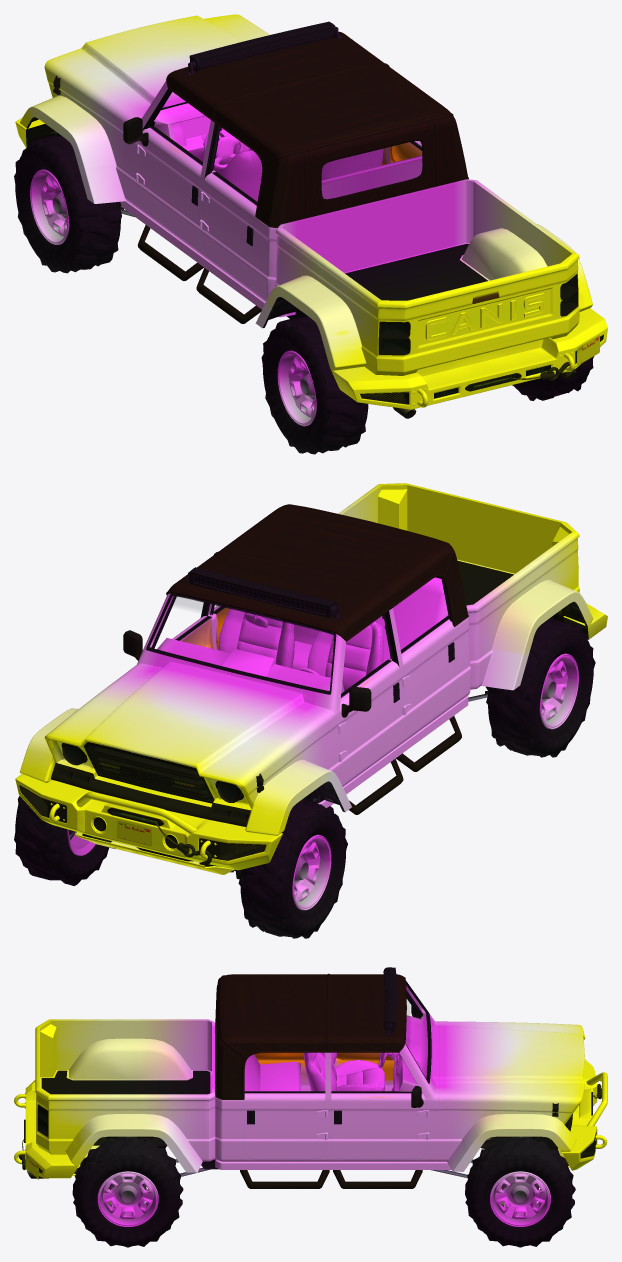
Rendered from kamacho.glb.
3 views of the same model, one above another, from view 1: azimuth 30°, elevation 25°; view 2: azimuth 150°, elevation 25°; view 3: azimuth 270°, elevation 25° (orthographic). The views are drawn at different scales.
Parts seen in each view (by area): view 1: bodyshell, extra_1, bonnet, chassis, bumper_r, wheel_lf, boot, wheel_lr, door_dside_f, door_dside_r, misc_s, wheel_rr (+2 smaller); view 2: bodyshell, extra_1, bonnet, chassis, bumper_f, wheel_lf, wheel_lr, boot, door_dside_f, door_dside_r, wheel_rf, misc_g (+4 smaller); view 3: bodyshell, extra_1, bonnet, wheel_rr, wheel_rf, chassis, door_pside_f, door_pside_r, bumper_f, bumper_r, misc_s, door_dside_f (+1 smaller).
Boxes of the visible parts, x1,y1,x2,y2 form: bodyshell: [20, 81, 592, 375]; extra_1: [166, 31, 468, 228]; bonnet: [44, 14, 269, 133]; chassis: [26, 21, 422, 327]; bumper_r: [330, 308, 607, 409]; wheel_lf: [14, 135, 121, 273]; boot: [411, 264, 559, 363]; wheel_lr: [261, 317, 368, 454]; door_dside_f: [123, 117, 202, 246]; door_dside_r: [202, 172, 257, 287]; misc_s: [137, 225, 261, 323]; wheel_rr: [512, 356, 594, 400]; bodyshell: [19, 483, 592, 835]; extra_1: [166, 504, 468, 641]; bonnet: [44, 665, 331, 795]; chassis: [75, 567, 587, 874]; bumper_f: [15, 774, 282, 870]; wheel_lf: [238, 799, 347, 938]; wheel_lr: [486, 617, 595, 757]; boot: [410, 485, 558, 573]; door_dside_f: [339, 660, 401, 781]; door_dside_r: [400, 619, 456, 734]; wheel_rf: [14, 796, 108, 885]; misc_g: [92, 746, 210, 799]; bodyshell: [35, 984, 576, 1172]; extra_1: [215, 973, 406, 1099]; bonnet: [439, 1021, 585, 1113]; wheel_rr: [72, 1136, 183, 1247]; wheel_rf: [465, 1136, 575, 1247]; chassis: [72, 967, 569, 1178]; door_pside_f: [331, 1085, 426, 1158]; door_pside_r: [244, 1091, 325, 1158]; bumper_f: [562, 1059, 607, 1170]; bumper_r: [14, 1080, 78, 1179]; misc_s: [240, 1170, 422, 1188]; door_dside_f: [334, 1005, 420, 1085].
Size of the model in its own units: 2.47 by 2.21 by 5.81.
Materials: 20 (15 with a texture image).
